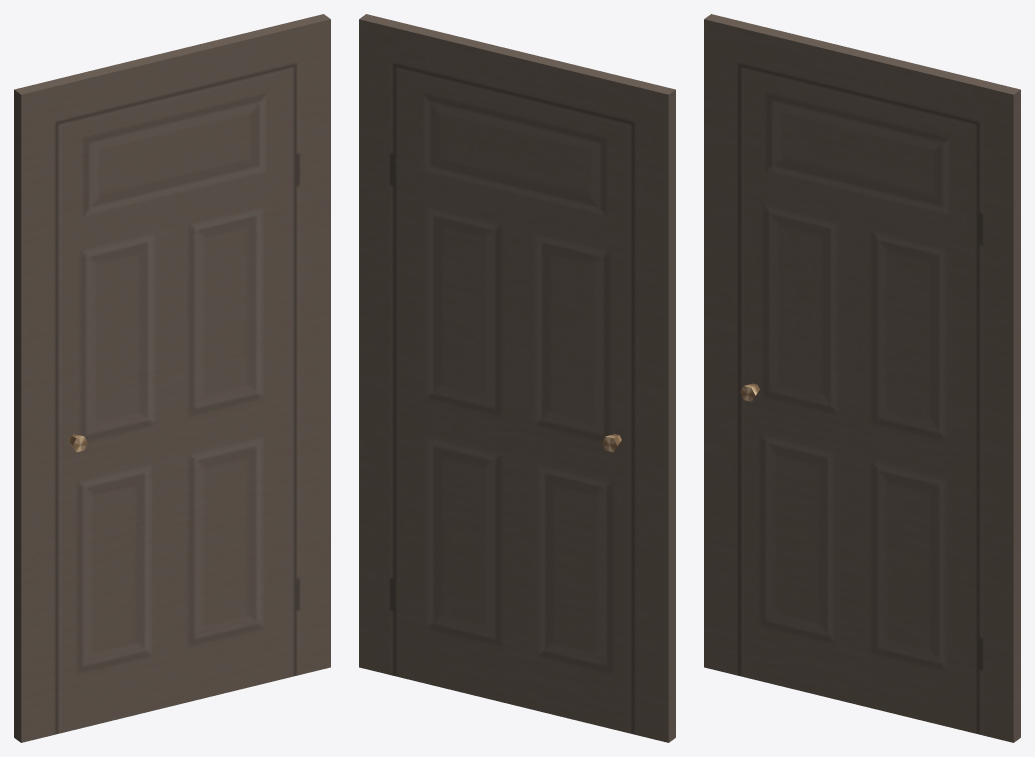
Rendered from [PSX] Interior Motel Door Model.fbx.
3 views of the same model, side by side, from view 1: azimuth 30°, elevation 25°; view 2: azimuth 150°, elevation 25°; view 3: azimuth 330°, elevation 25° (orthographic).
Parts seen in each view (by area): view 1: Intierior Door, Intierior Door Frame; view 2: Intierior Door, Intierior Door Frame; view 3: Intierior Door, Intierior Door Frame.
Boxes of the visible parts, left/top/right/bottom form: Intierior Door: left=57, top=65, right=295, bottom=733; Intierior Door Frame: left=14, top=14, right=330, bottom=742; Intierior Door: left=394, top=65, right=632, bottom=733; Intierior Door Frame: left=359, top=14, right=675, bottom=742; Intierior Door: left=739, top=65, right=977, bottom=733; Intierior Door Frame: left=704, top=14, right=1020, bottom=742.
Bounding box in the file's own units: 100 × 200 × 12.64.
Materials: 2 (2 with a texture image).
